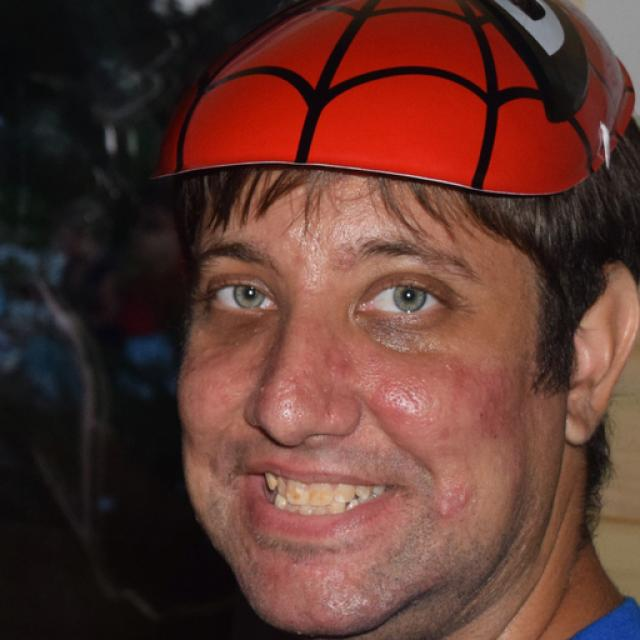Acne: (427, 482, 476, 527), (317, 356, 345, 388), (251, 376, 276, 407), (238, 320, 265, 344), (310, 379, 334, 402)
